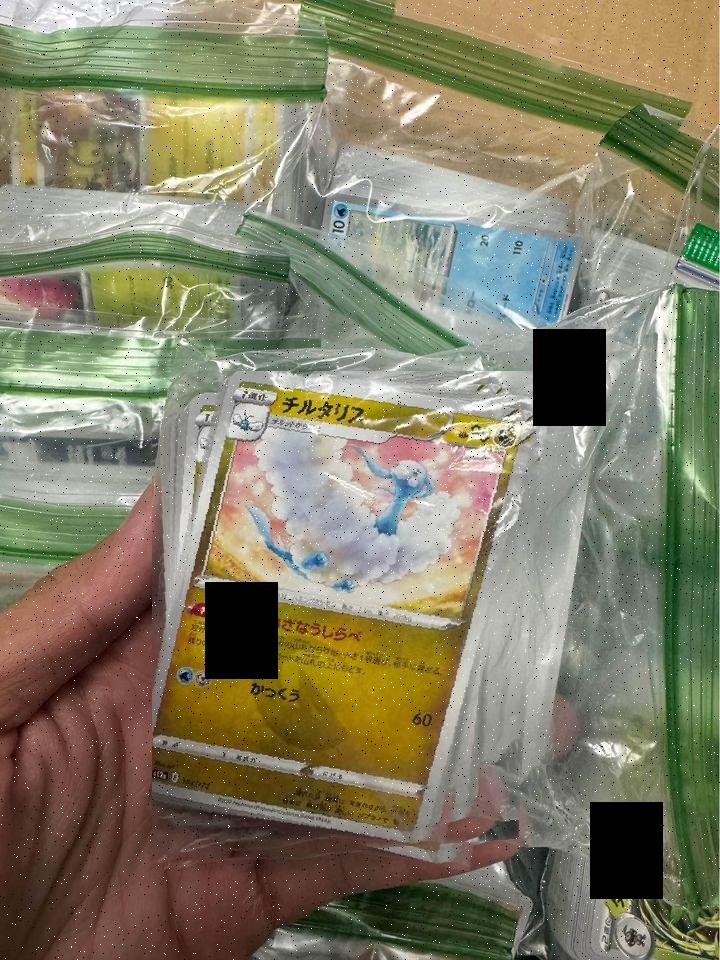card: (152, 371, 541, 847)
